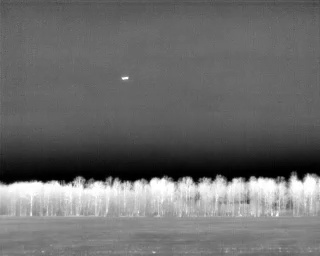DRONE: (118, 72, 133, 85)
